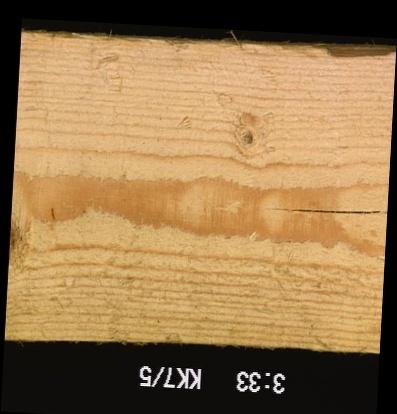sound_knot: (8, 184, 37, 270), (224, 108, 271, 160)
split: (263, 204, 385, 224)
wave: (207, 37, 389, 59)
